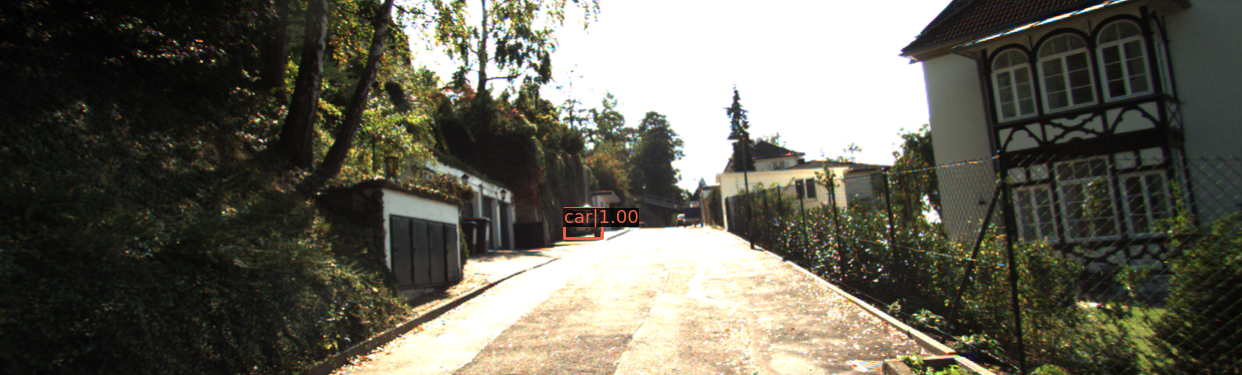car: (568, 210, 600, 244)
